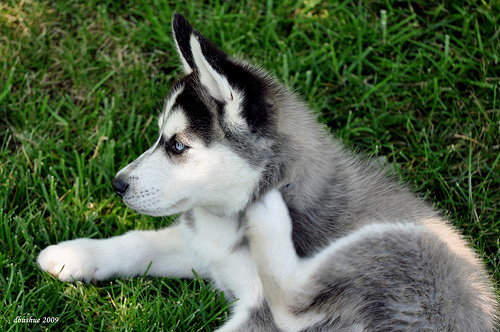dog: (31, 10, 499, 331)
